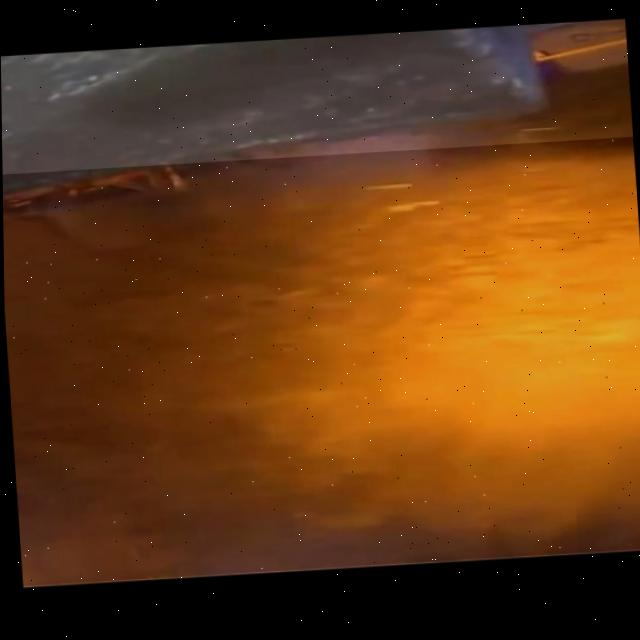spillage: (2, 139, 640, 586)
